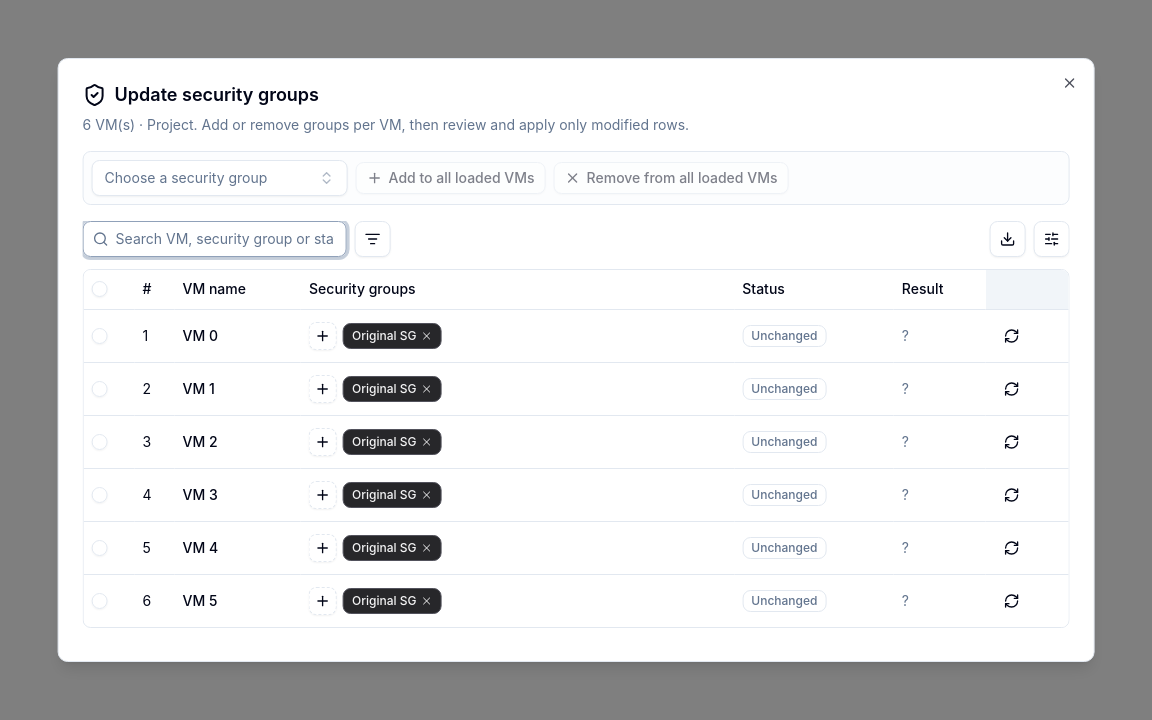
Scenario: limits concurrent VM reads and writes to three when processing many VMs
The image size is (1152, 720).
Expected: the dropdown named "Add SG to VM 5" is enabled, [309, 587, 337, 615]
Click the dropdown named "Bulk security group" at point(220, 178), box [92, 160, 348, 196]
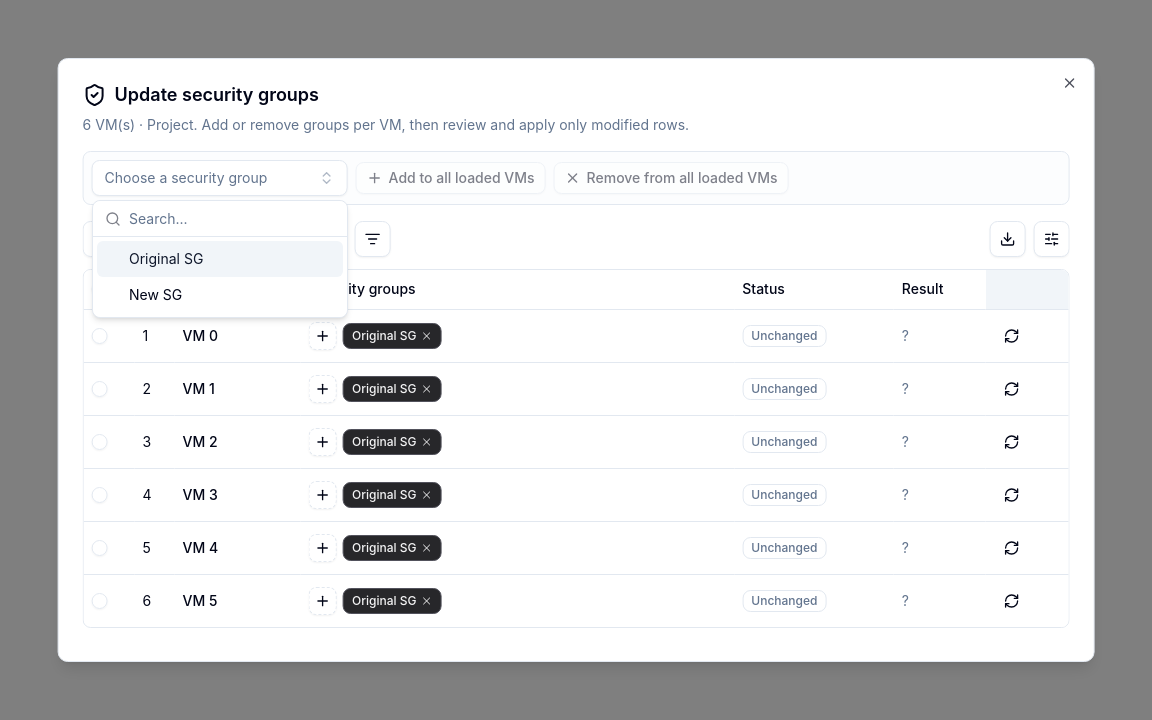
Click the option "New SG" at point(156, 294), box [129, 286, 182, 303]
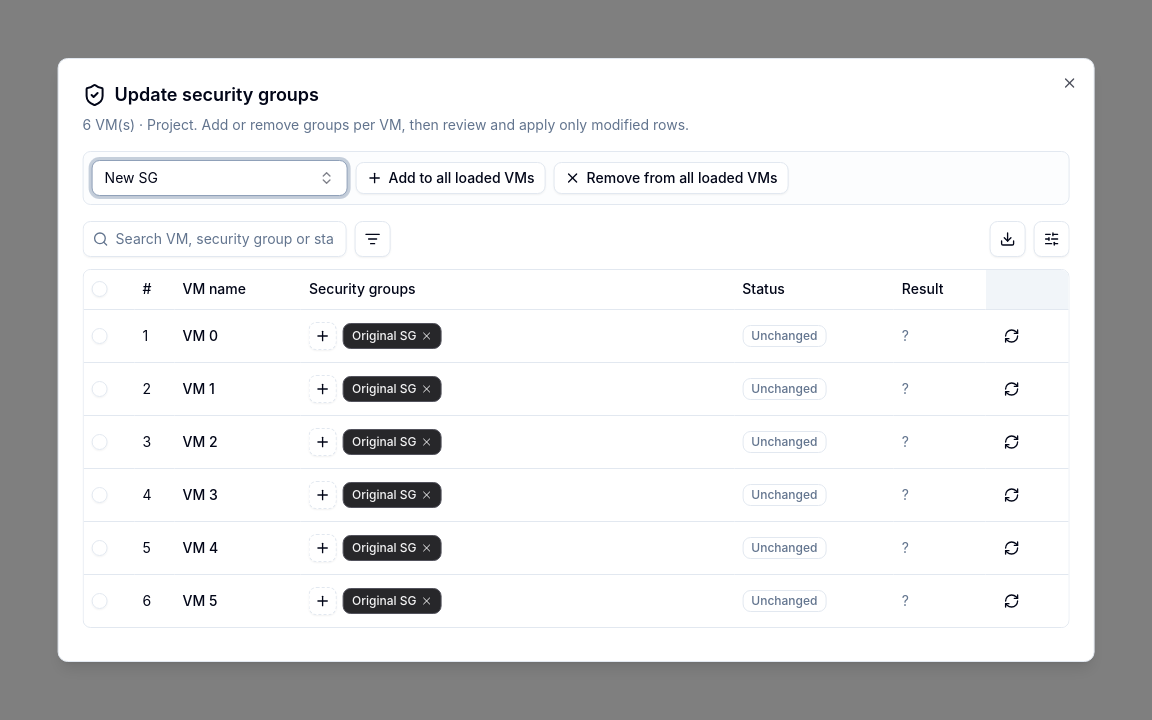
Click the button "Add to all loaded VMs" at point(451, 178), box [356, 162, 546, 194]
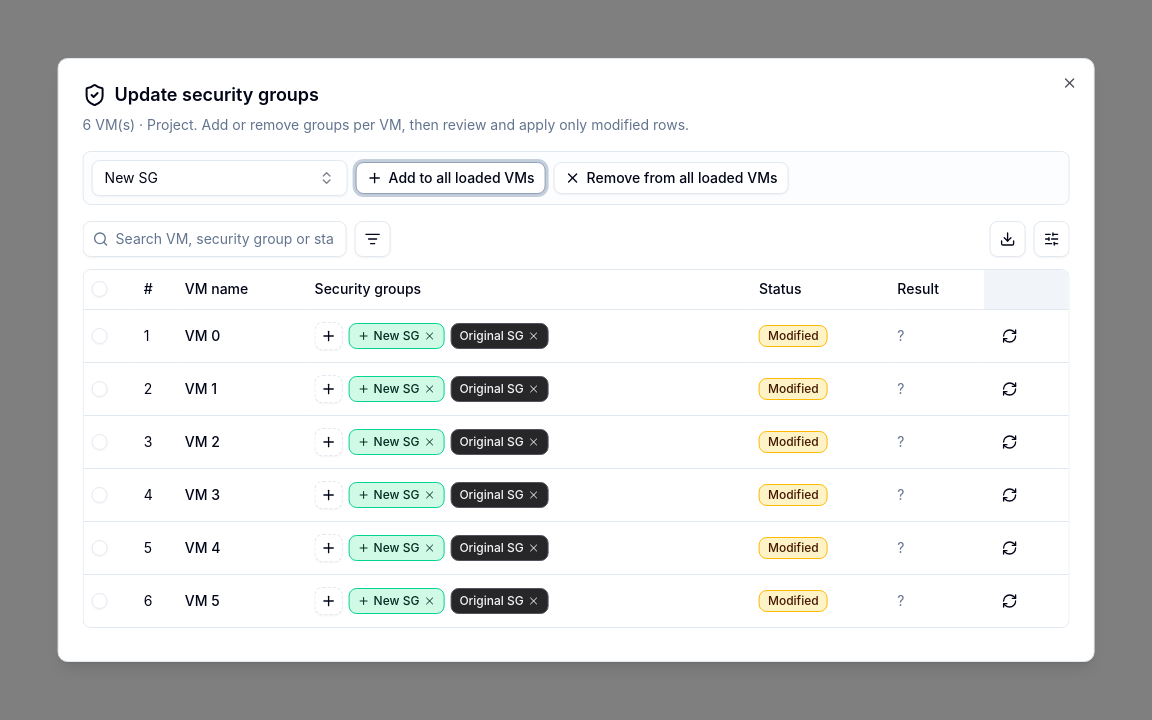
Click the checkbox named "Select all rows" at point(100, 289), box [92, 281, 108, 297]
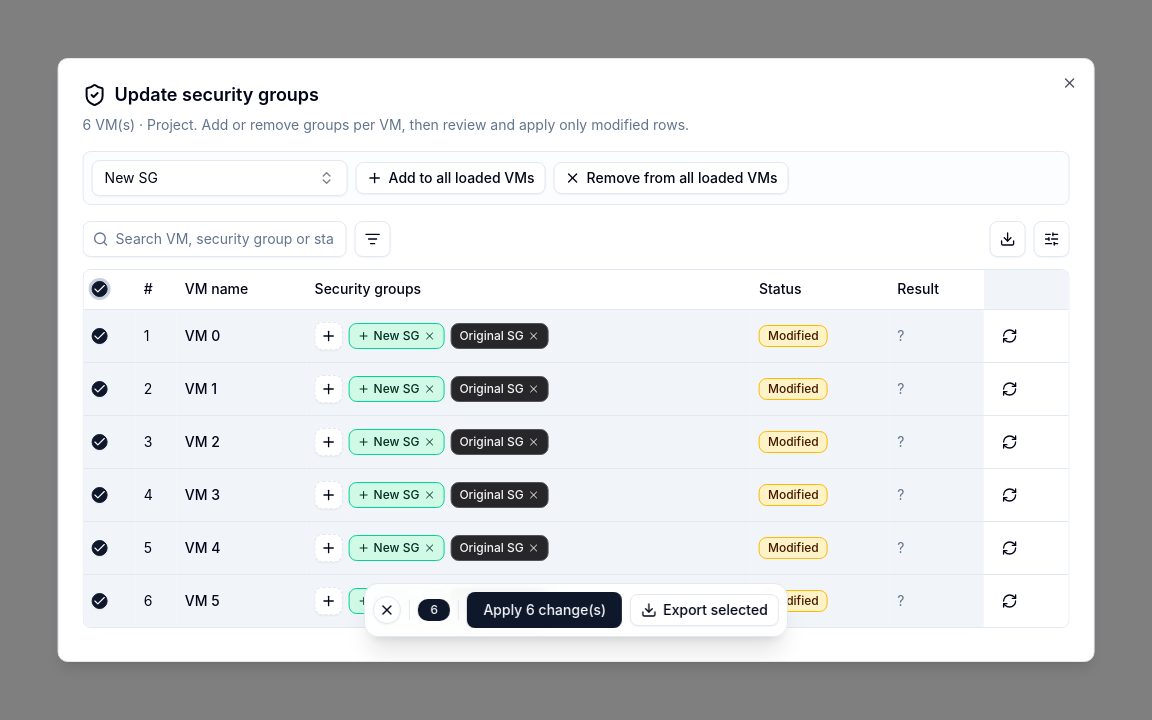
Click the button "Apply 6 change(s)" at point(545, 610), box [467, 592, 622, 628]
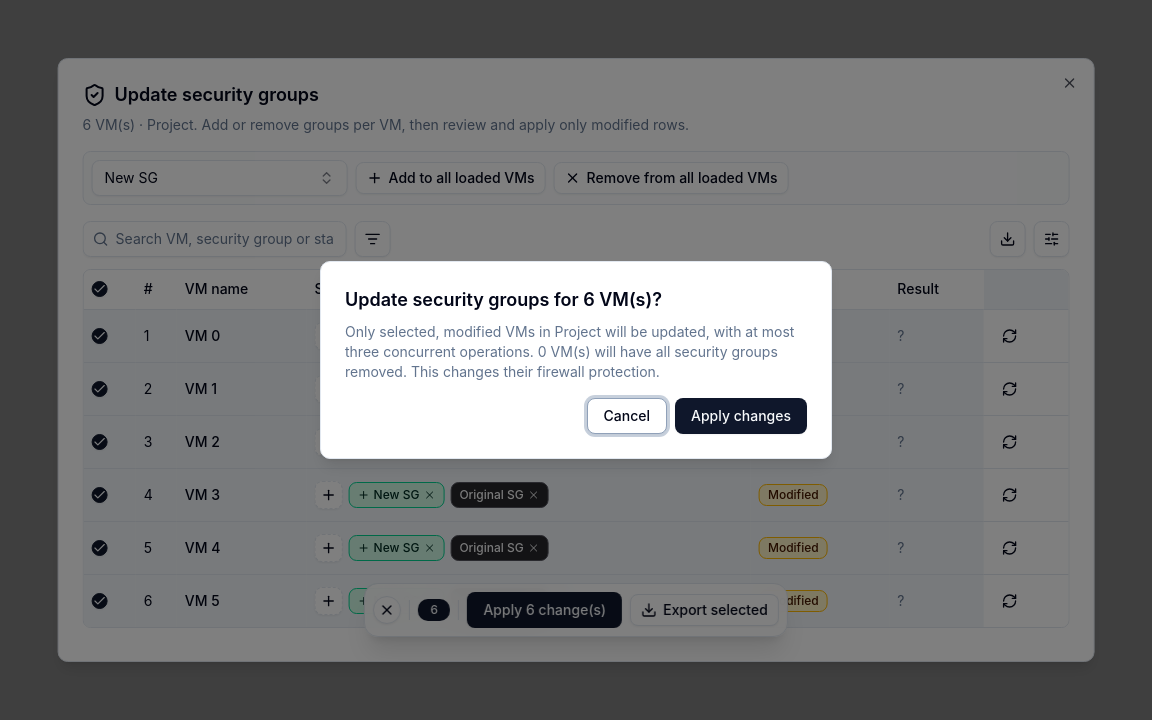
Click the button "Apply changes" at point(741, 416), box [675, 398, 807, 434]
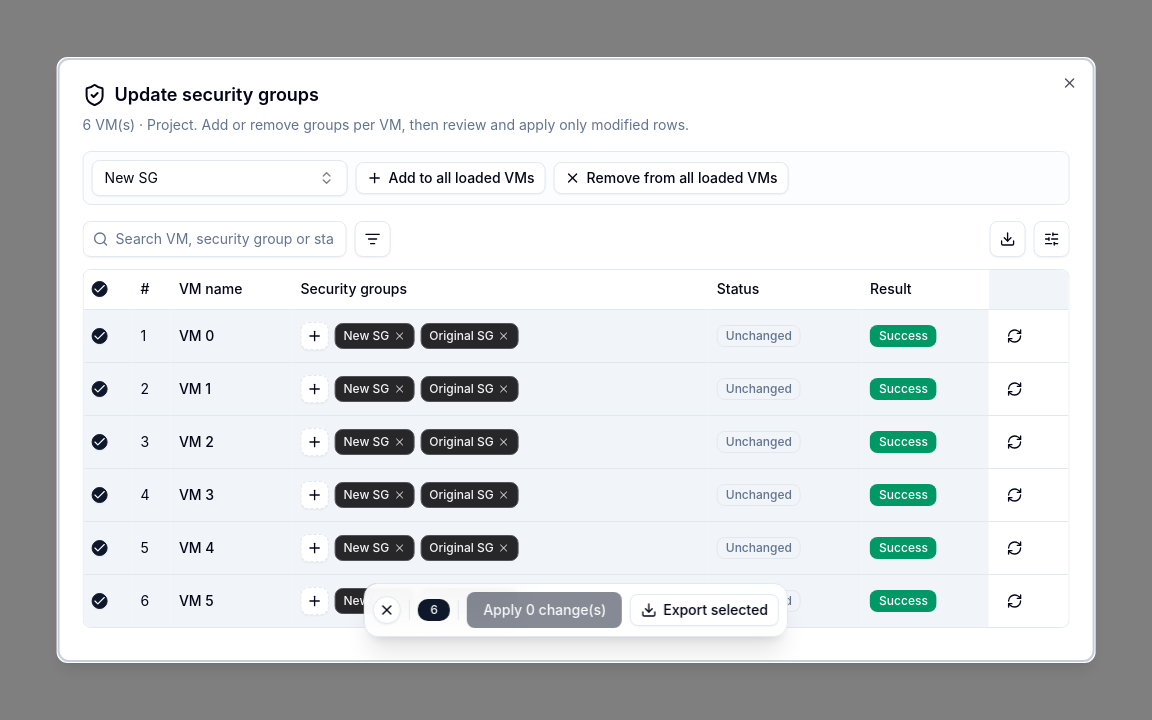
Now the text "Success" in the row of "VM 0" is shown, box [879, 328, 928, 343]
